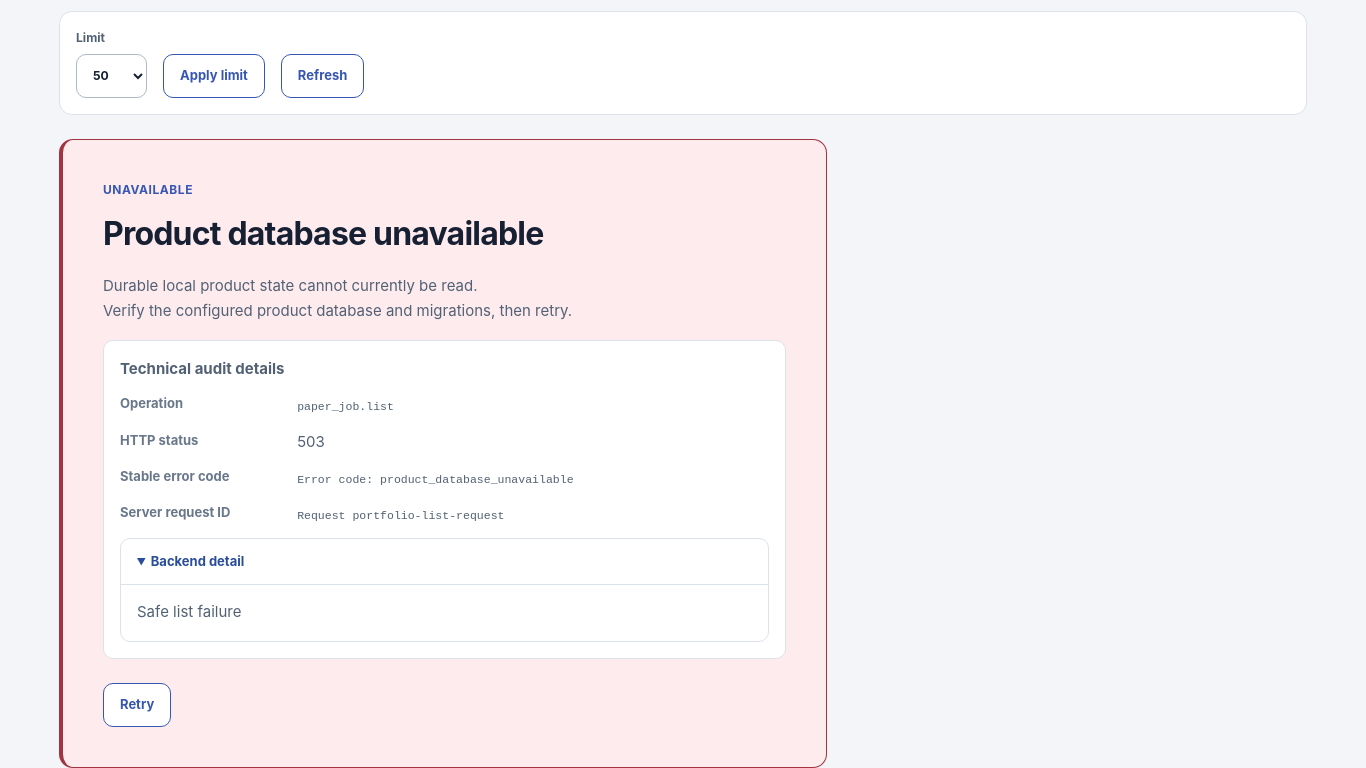
Test: PortfolioRecordListView › renders bounded product_database_unavailable with request ID and manual retry
(page scrolled)
Check: the heading "Product database unavailable" is shown, box [103, 214, 543, 253]
Check: the text "Request portfolio-list-request" is shown, box [297, 509, 504, 522]
Click the button "Retry".
click(137, 705)  # box [103, 683, 171, 727]
(page scrolled)
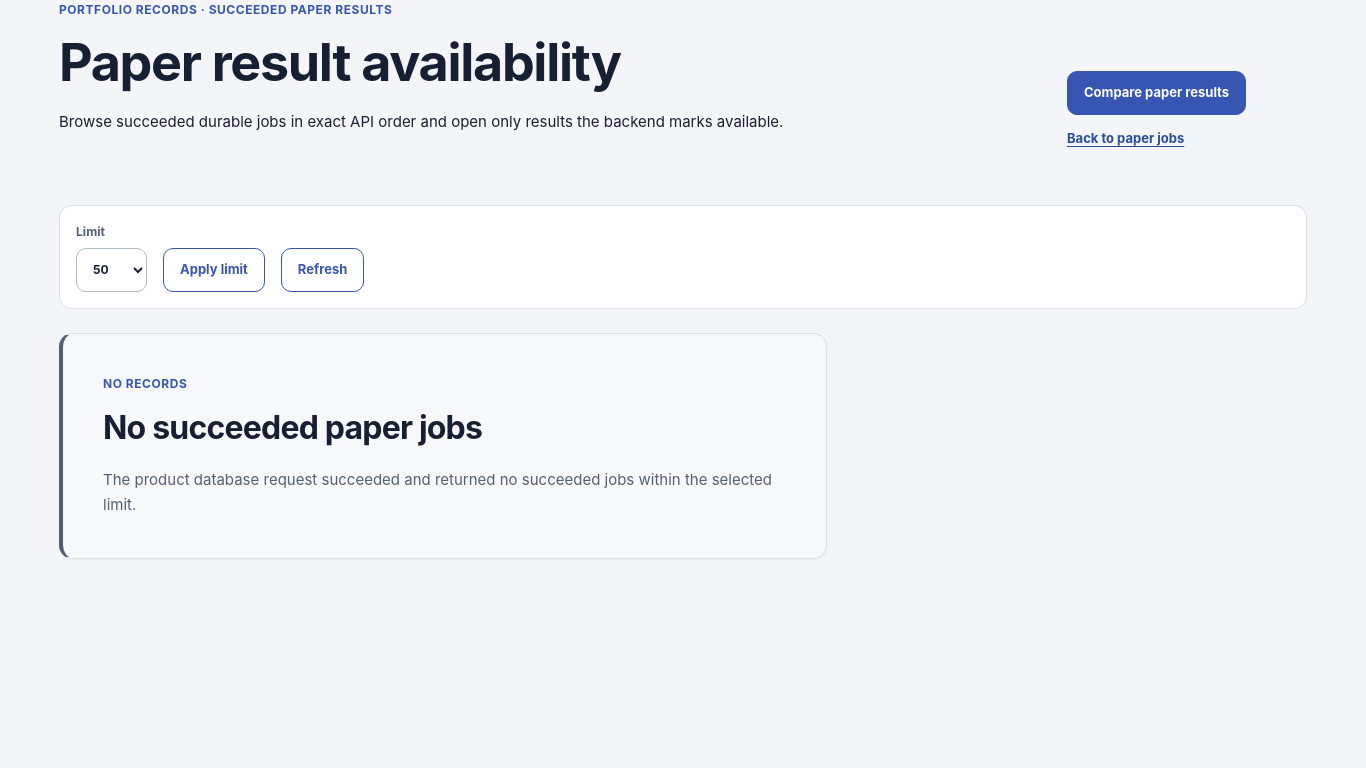
Check: the heading "No succeeded paper jobs" is shown, box [103, 408, 482, 447]
